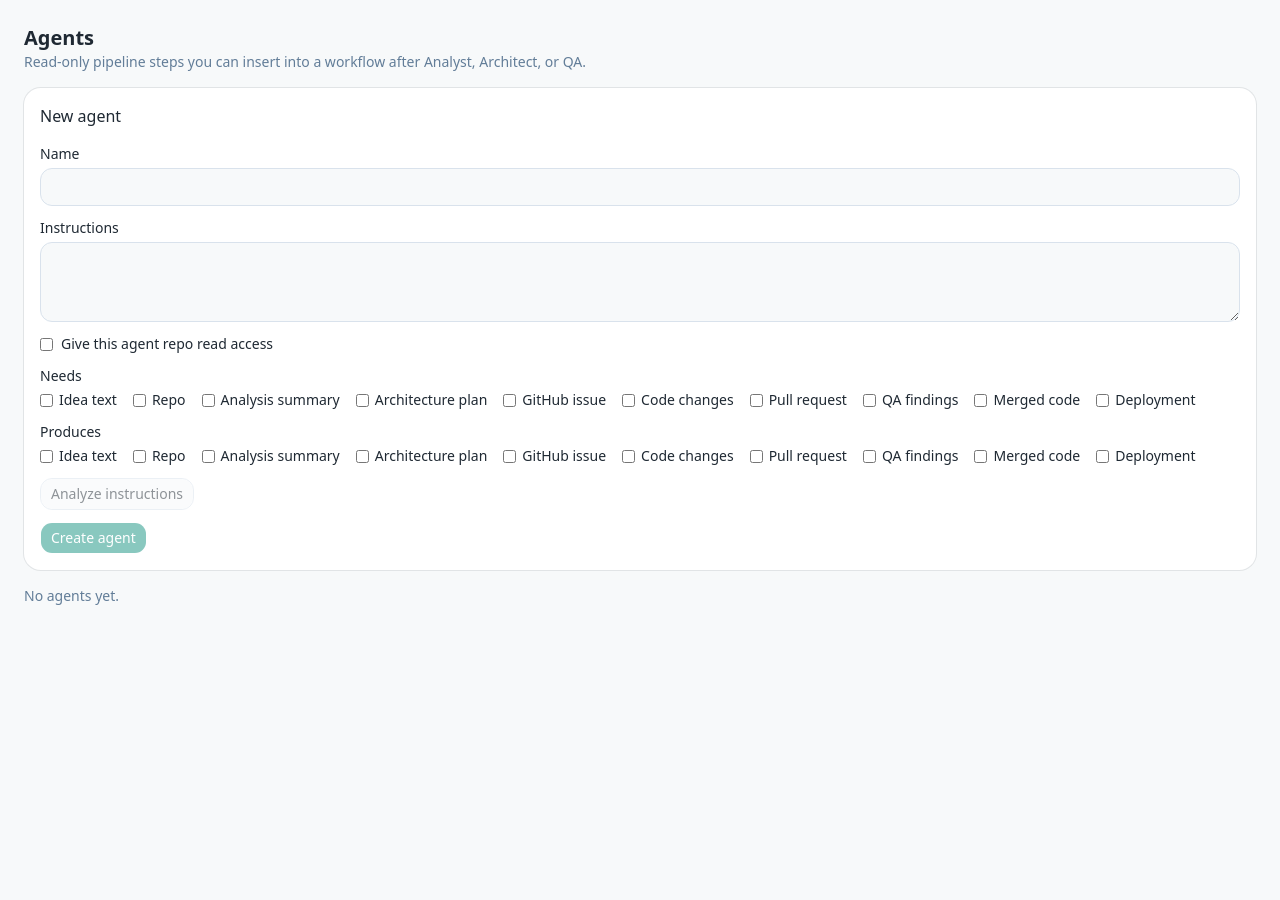
Test: AgentsView › flags unbounded scope and repo access risk when analyzing
Type "If a file has no tests, write tests for it. Otherwise, refactor it for clarity." into the text box labelled "Instructions".
click(640, 282); type("If a file has no tests, write tests for it. Otherwise, refactor it for clarity.")  # box [40,242,1240,322]
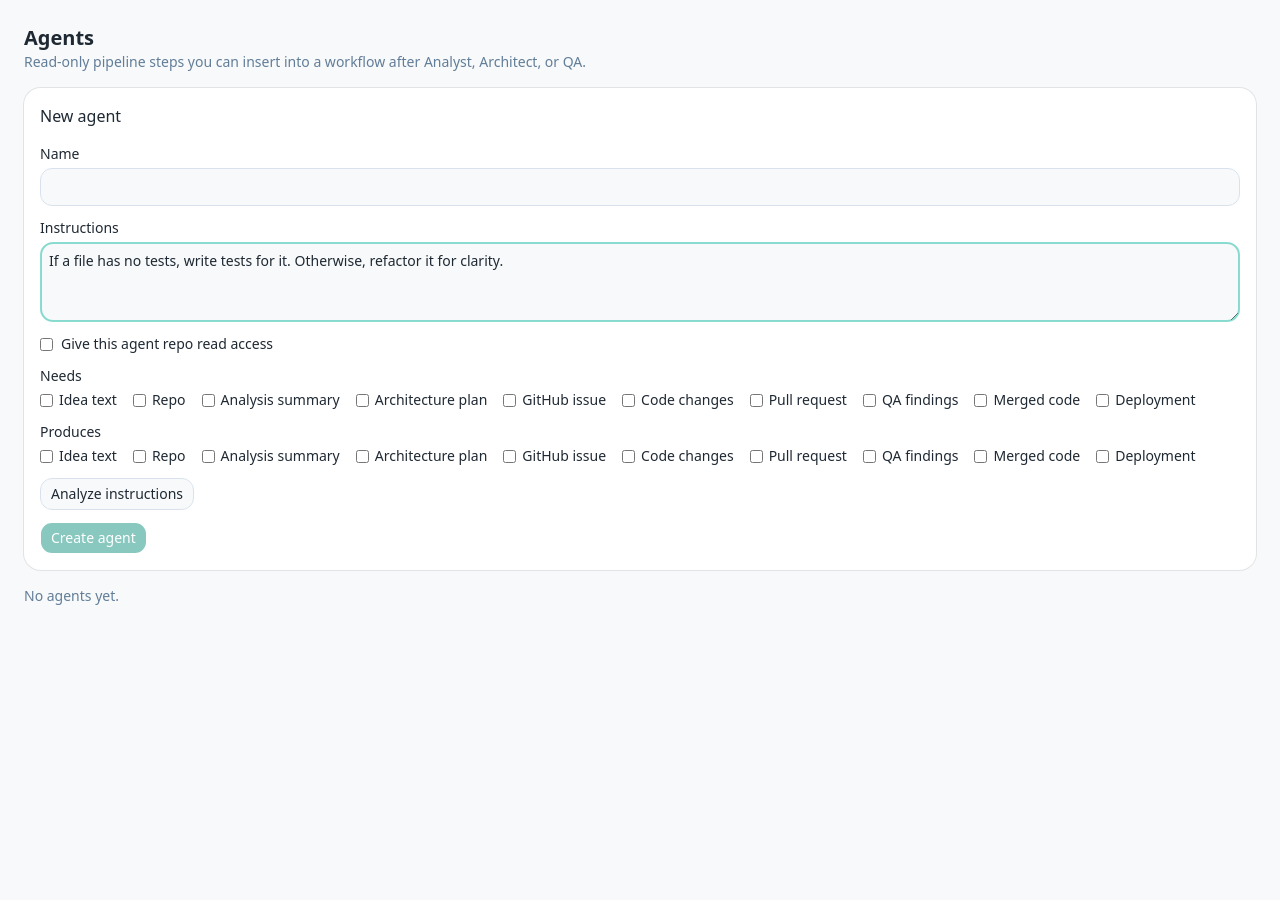
Click the checkbox labelled "Give this agent repo read access".
click(46, 344)  # box [40,338,53,350]
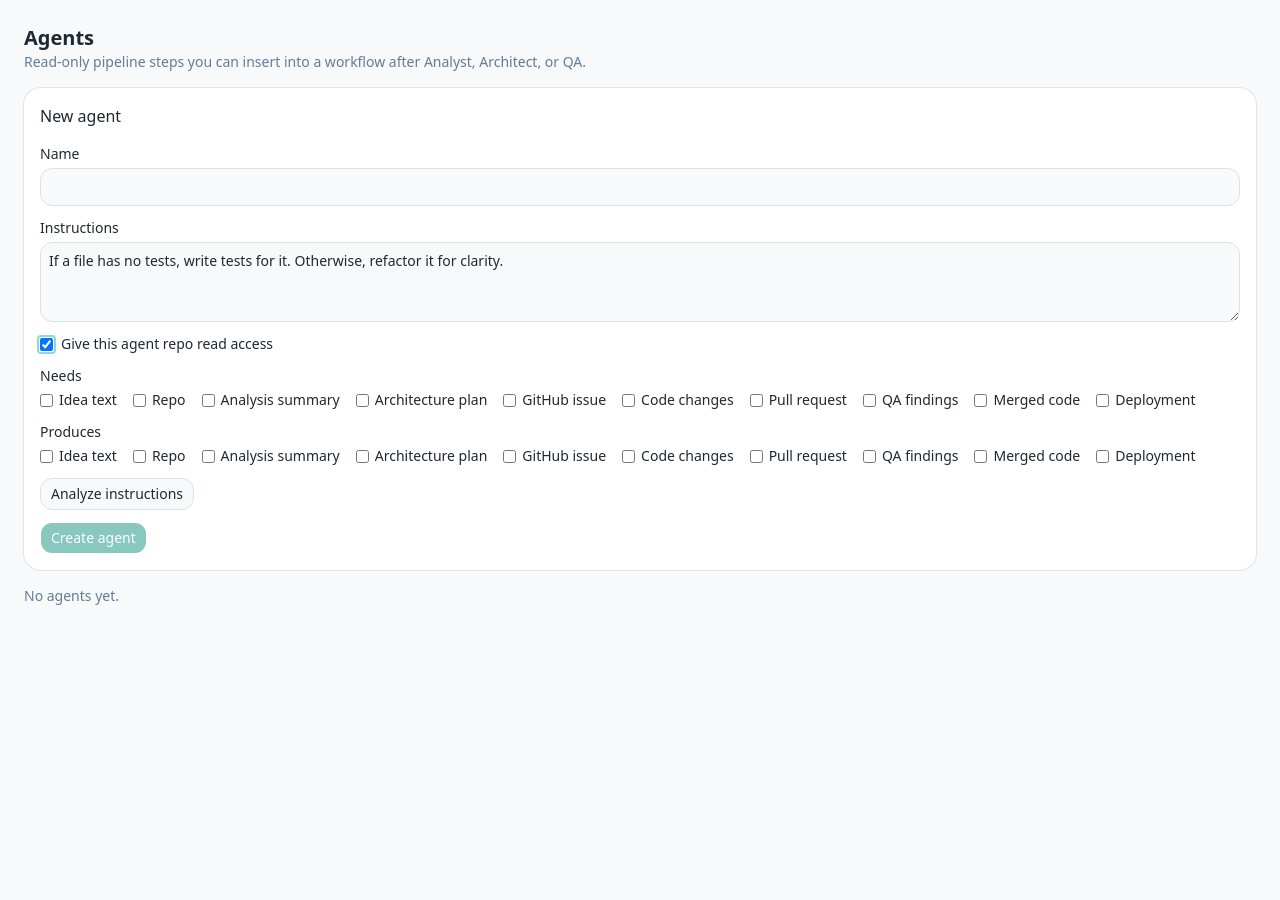
Click the button "Analyze instructions".
click(117, 494)  # box [40,478,194,510]
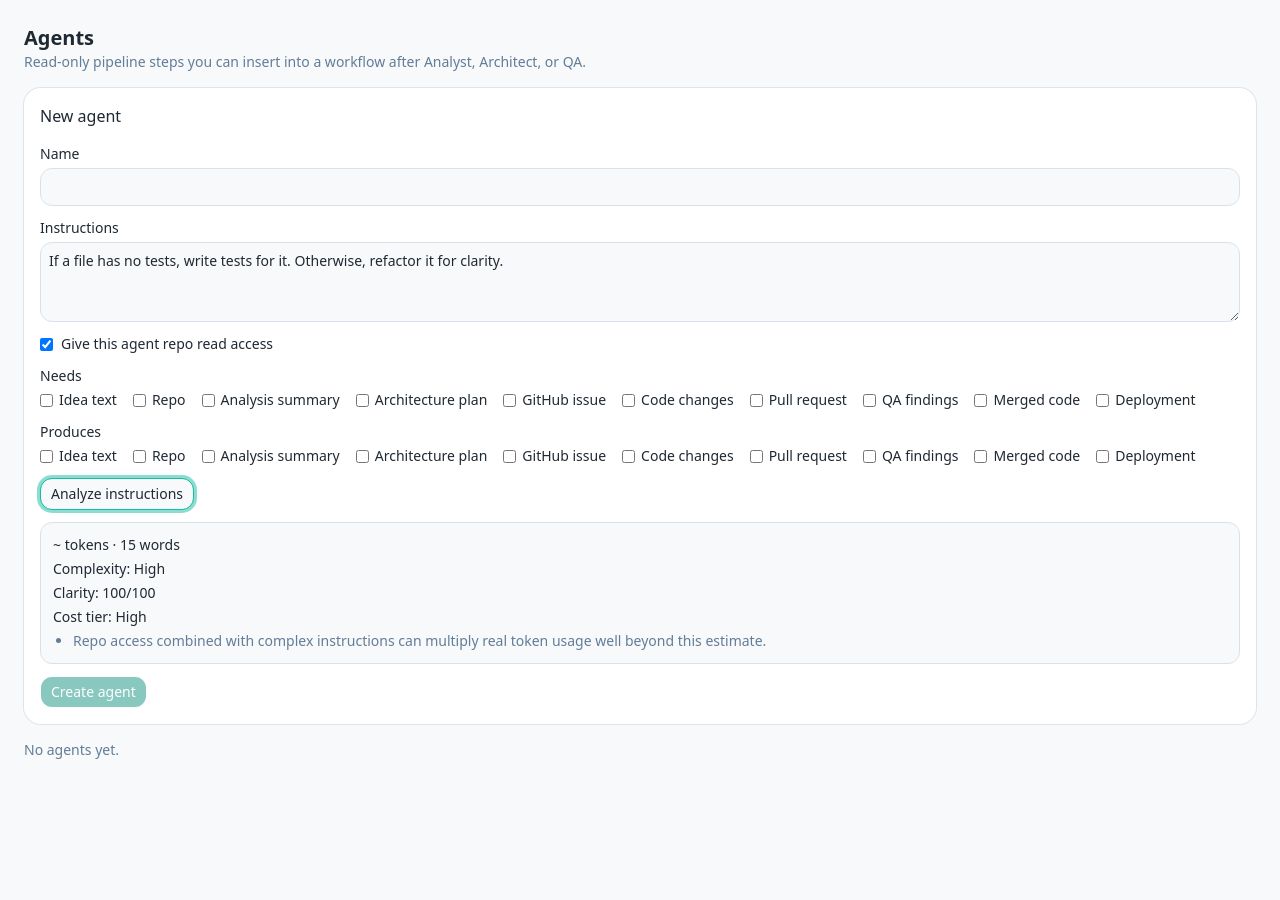
Check: the list item "Repo access combined with complex instructions can multiply real token usage" is shown, box [73,631,766,650]
